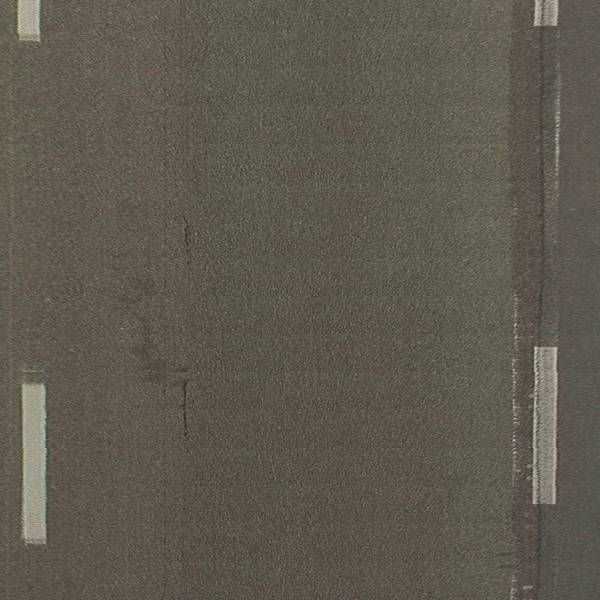road_damage: (165, 210, 197, 448)
